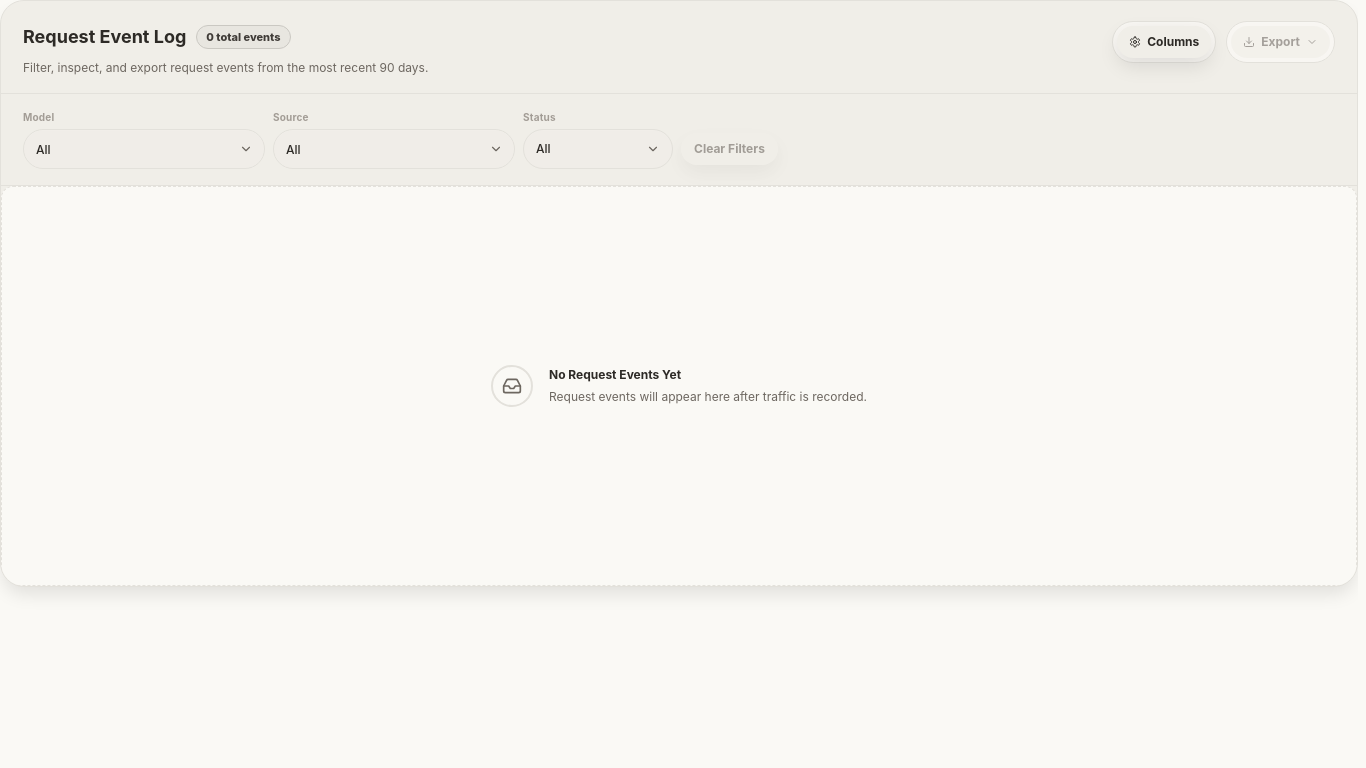
RequestEvents column settings › prevents hiding the final visible column
This screenshot has width=1366, height=768.
Click the button "Columns": [1164, 42] box [1117,26,1211,58]
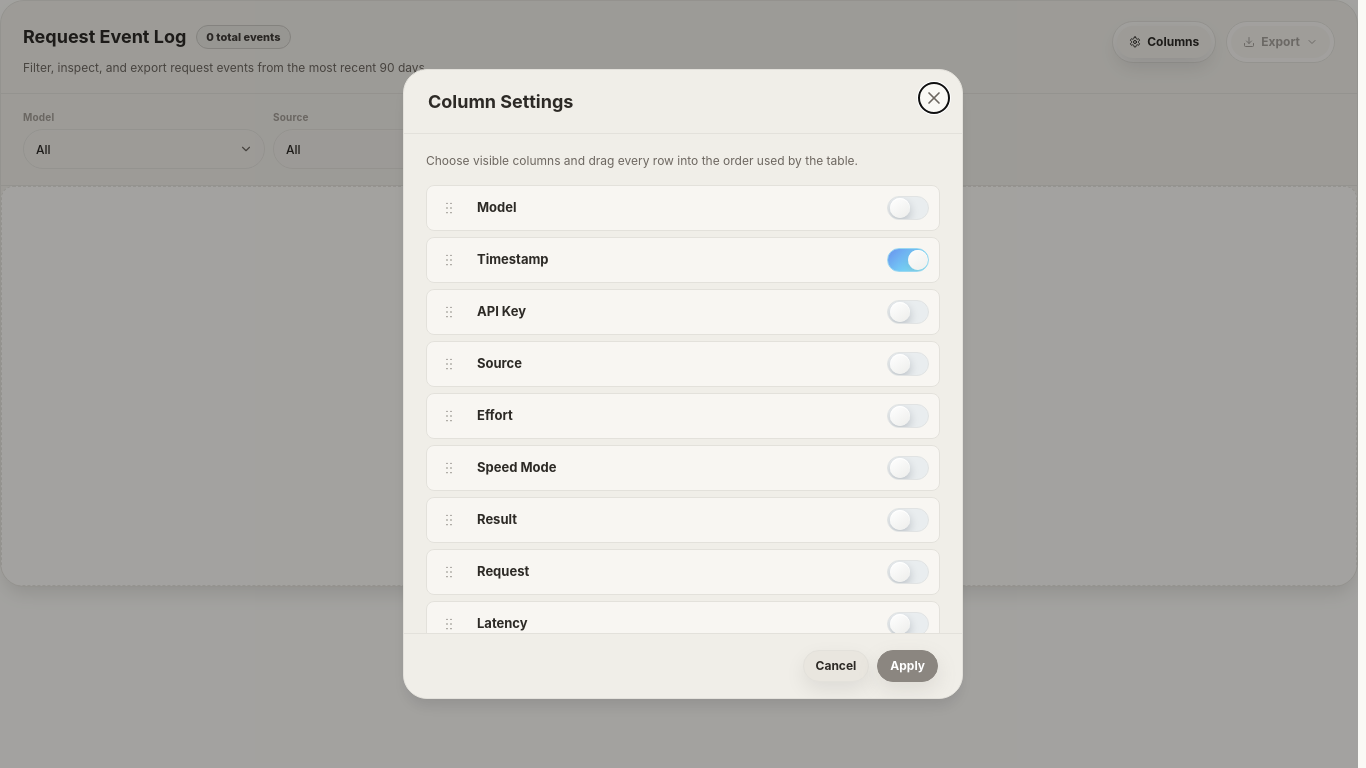
Expected: the checkbox named "Show Timestamp" is disabled, [887,248,929,272]
